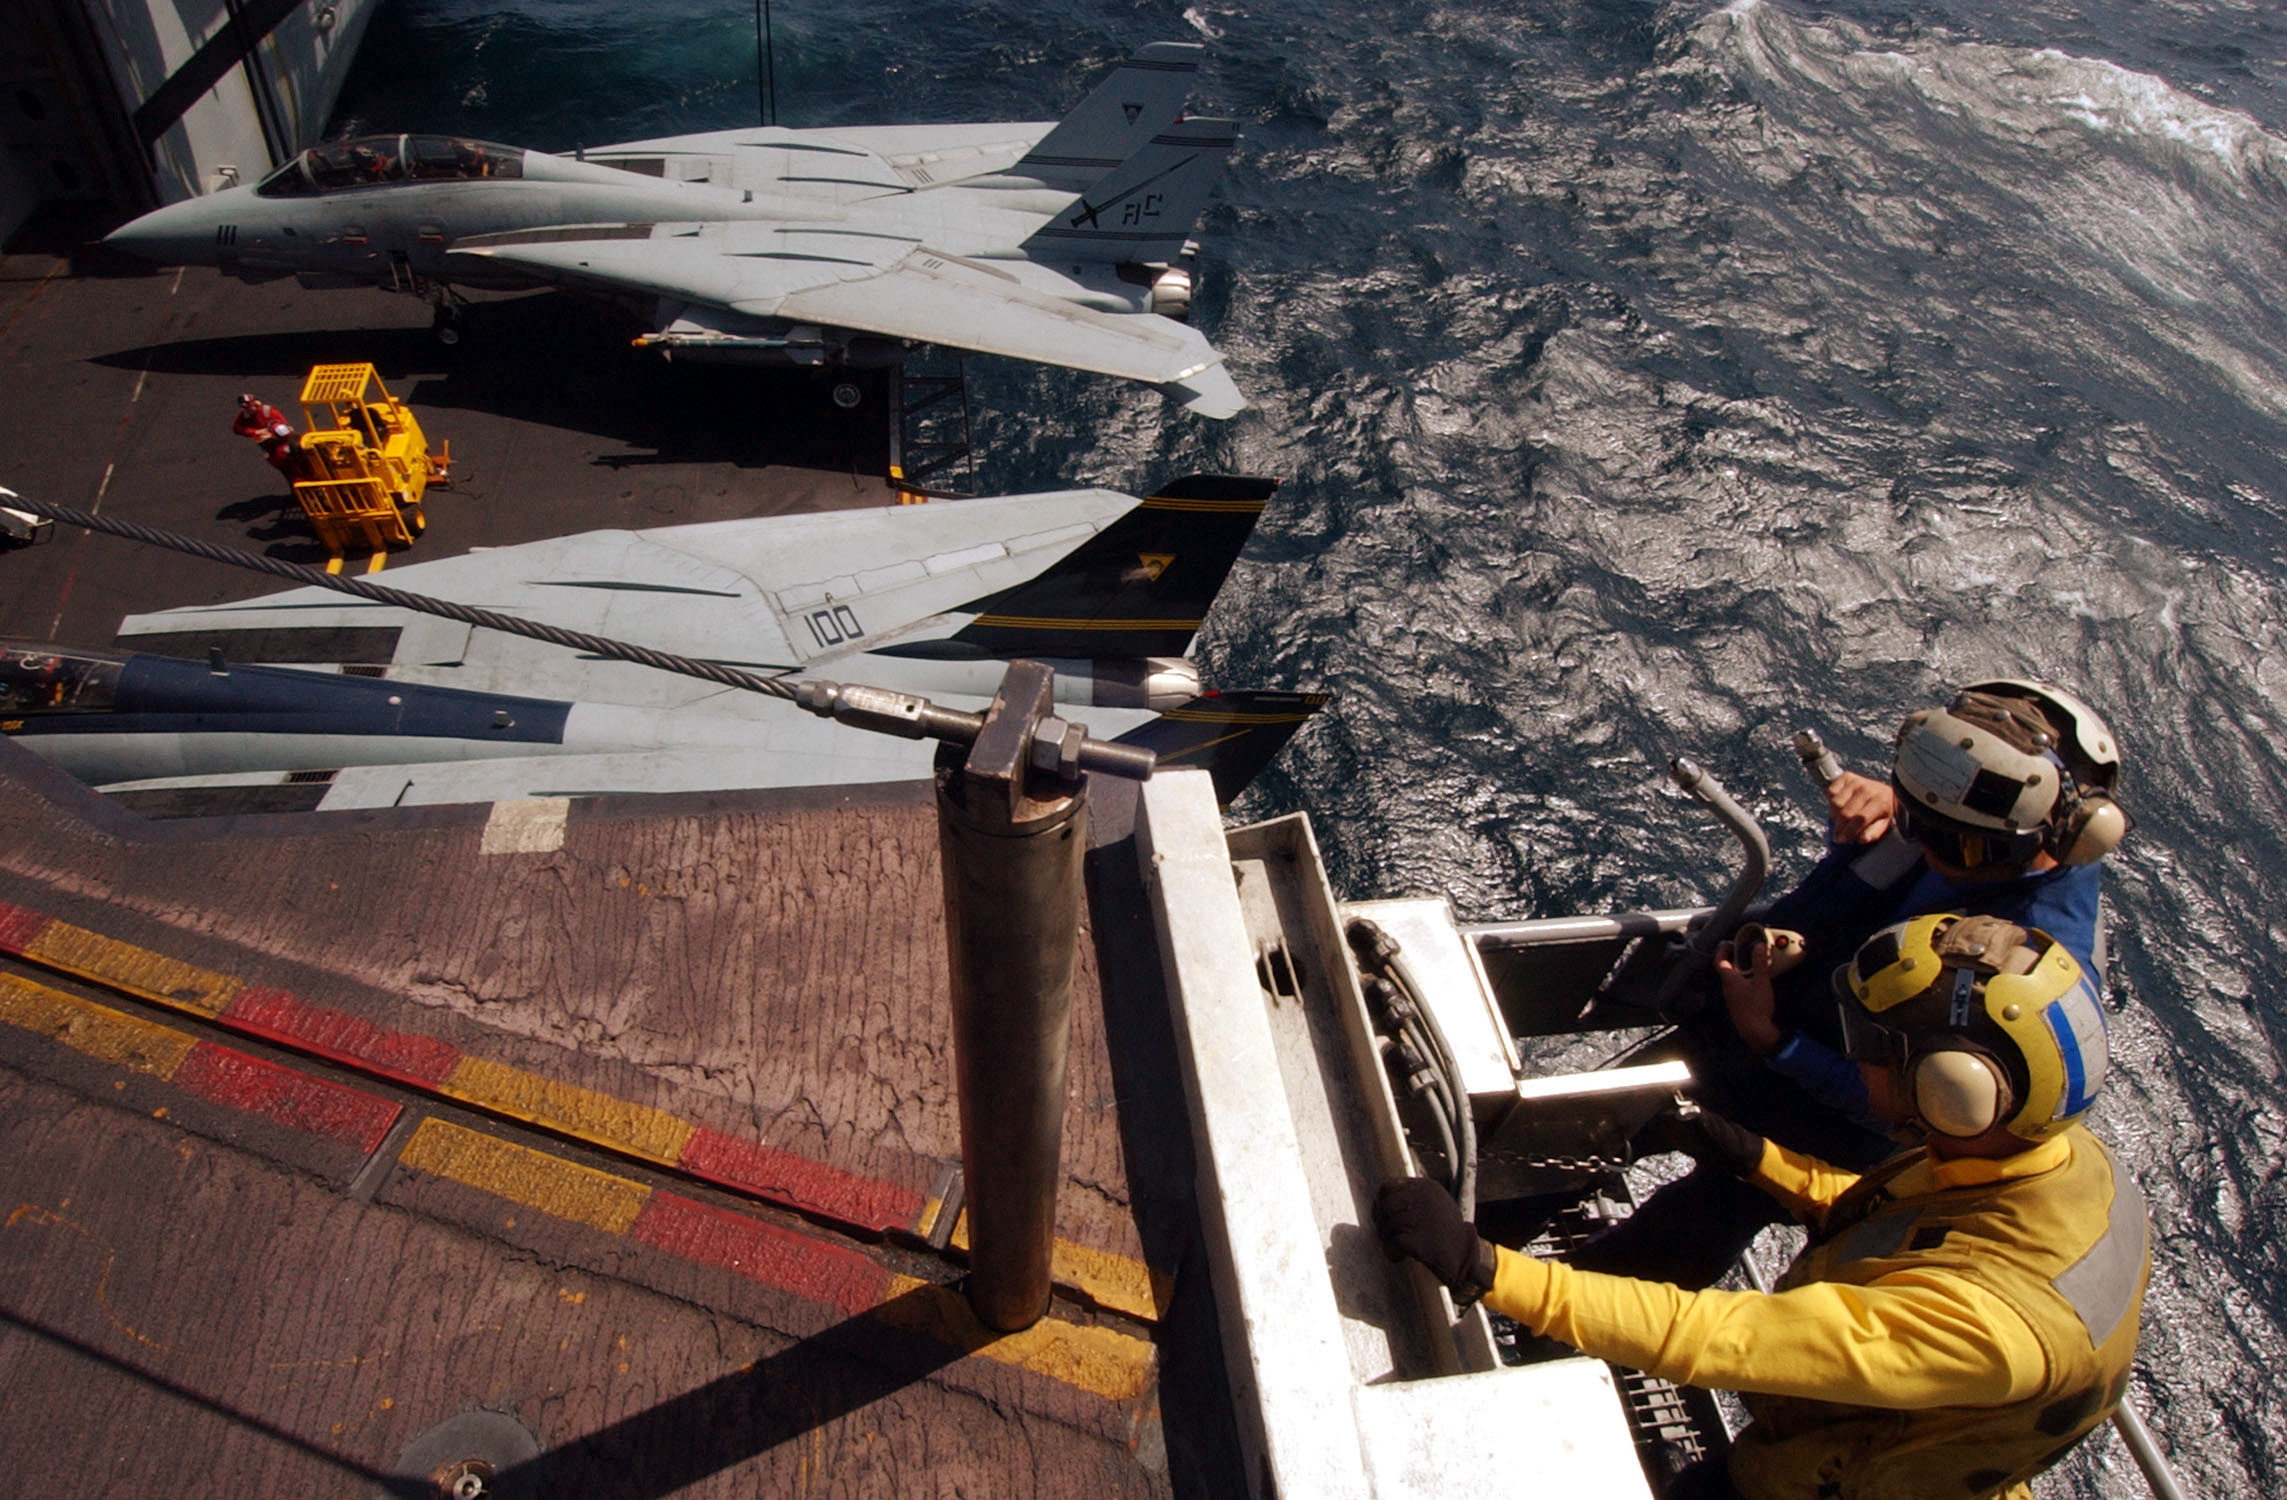F14: (2, 474, 1334, 820), (82, 40, 1249, 420)
